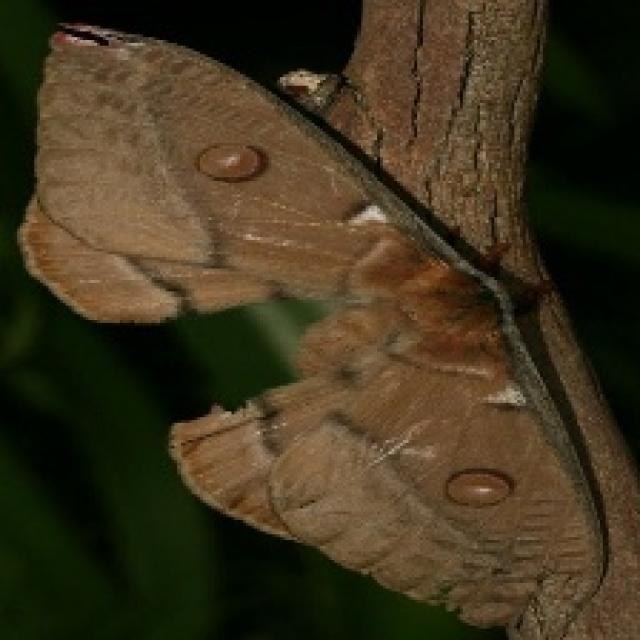butterfly: (14, 17, 637, 637)
